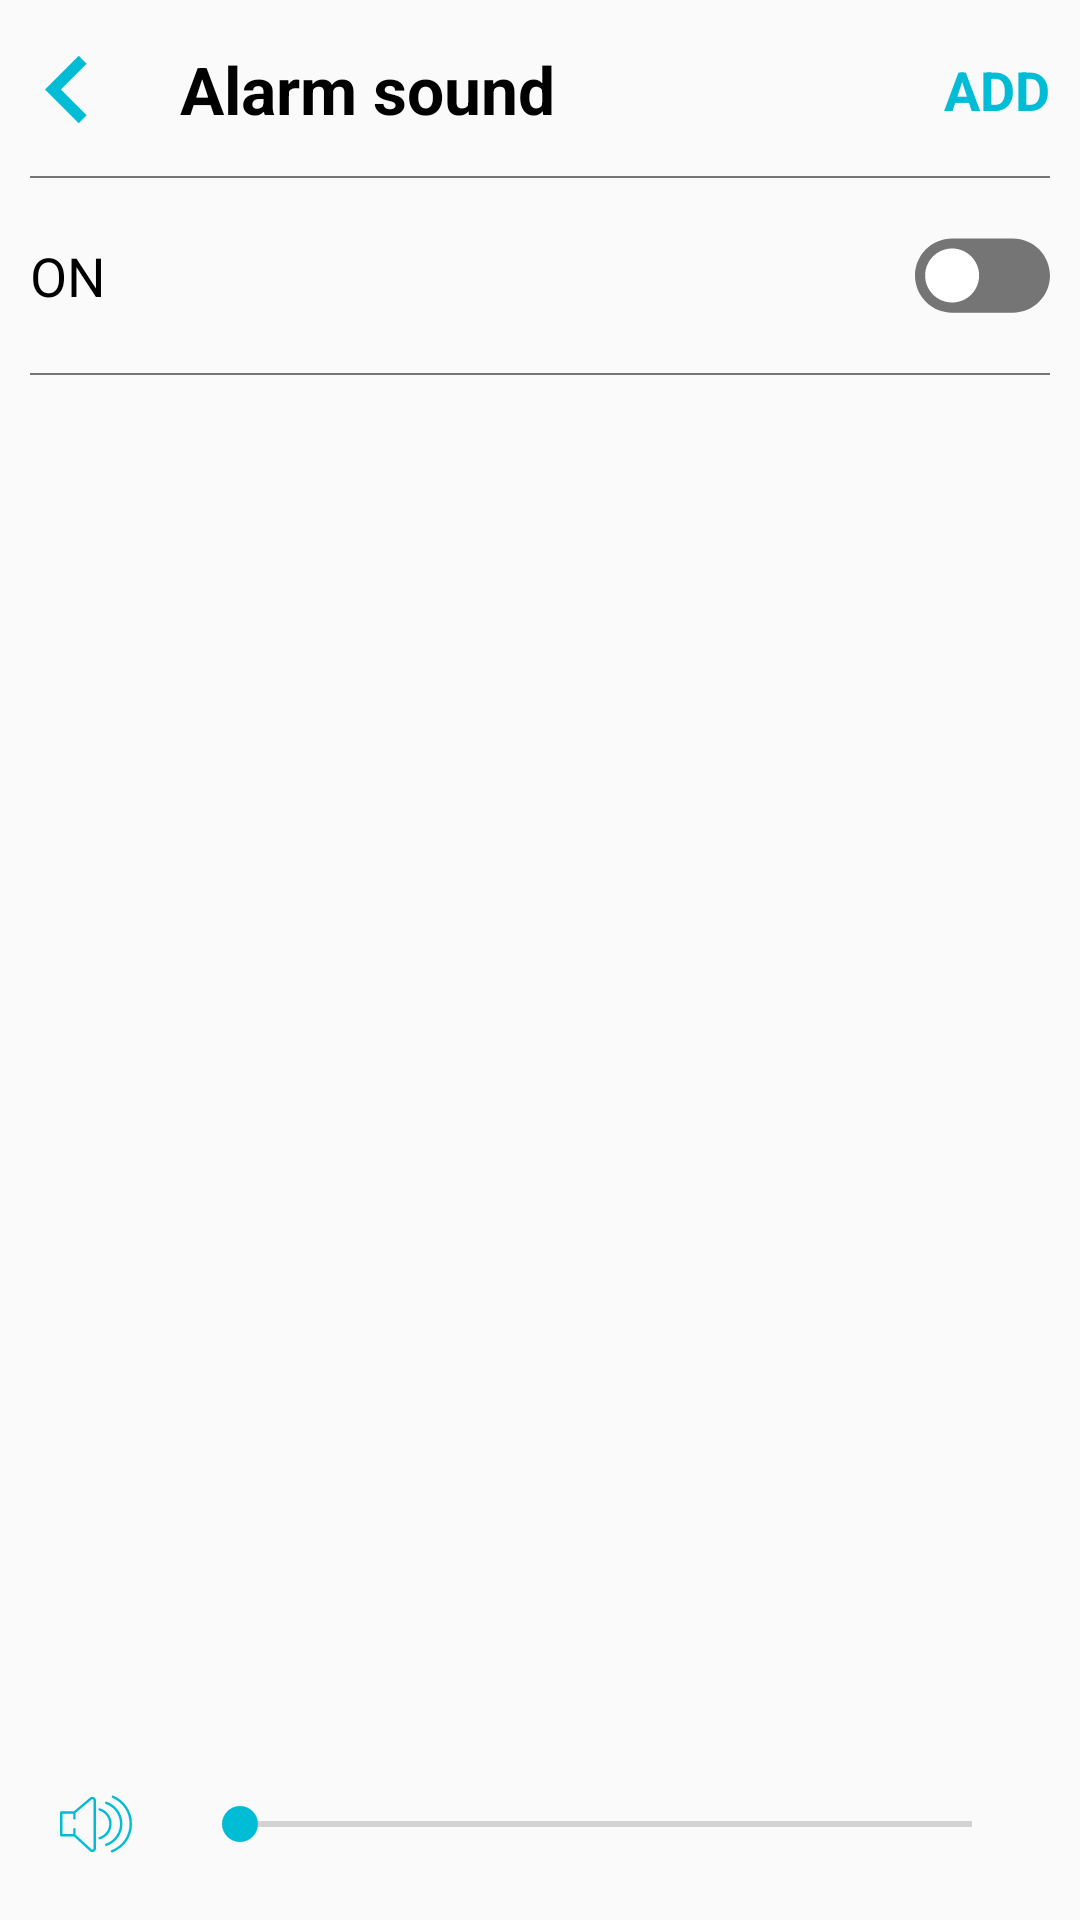

Icon click points for this 1080w x 1920h phone screenshot, format point (x, y):
back: point (66, 89)
speaker: point (96, 1824)
